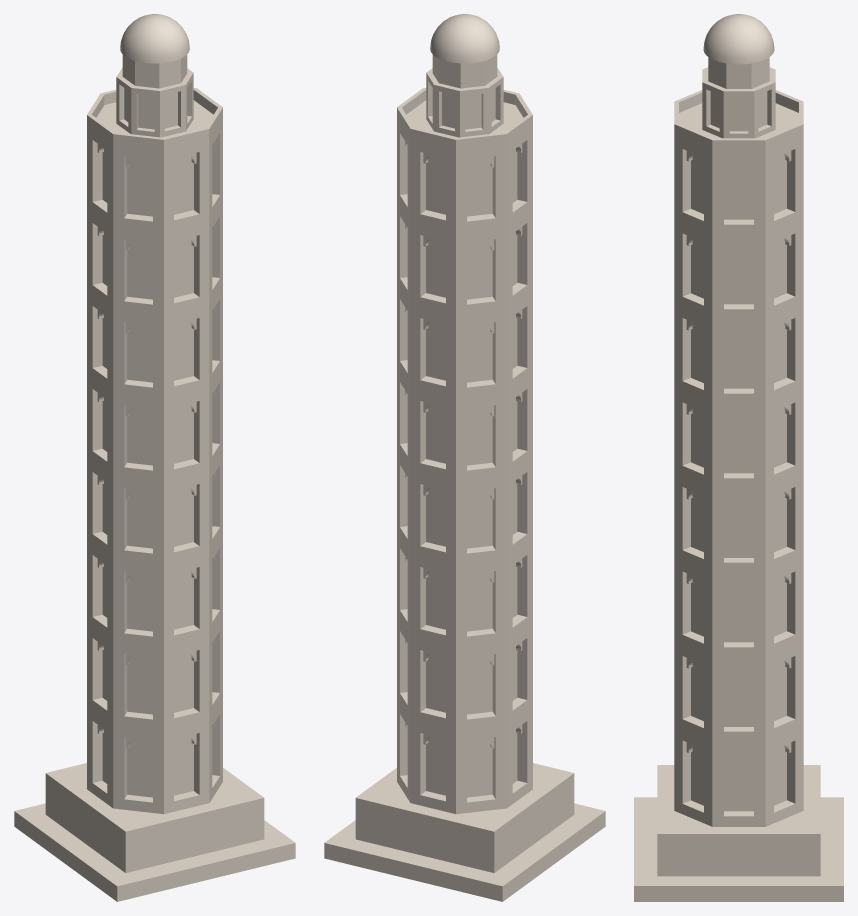
File: MANART A'ANA.glb
3 renders of one model, left to right at view 1: azimuth 30°, elevation 25°; view 2: azimuth 150°, elevation 25°; view 3: azimuth 270°, elevation 25°, orthographic.
Visible parts, largest first — view 1: Geom3D, Geom3D_; view 2: Geom3D, Geom3D_; view 3: Geom3D, Geom3D_.
Boxes of the visible parts, x1,y1,x2,y2 form: Geom3D: [14, 118, 295, 901]; Geom3D_: [87, 14, 222, 150]; Geom3D: [324, 118, 605, 901]; Geom3D_: [397, 14, 532, 150]; Geom3D: [634, 135, 843, 901]; Geom3D_: [674, 14, 803, 150].
Size of the model in its own units: 1.03 by 4.53 by 1.03.
